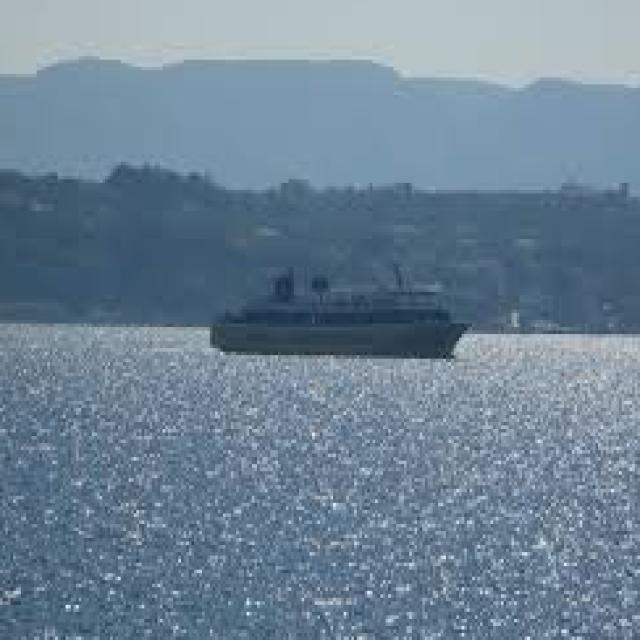passenger ship: (197, 256, 479, 371)
